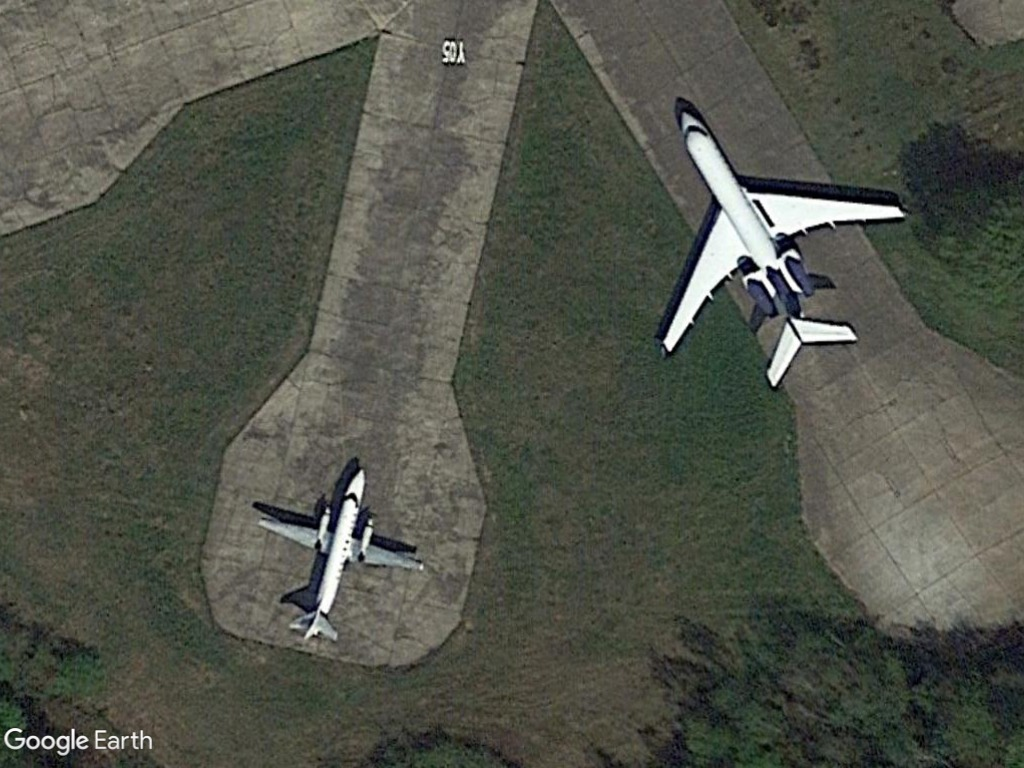chartered: (660, 104, 904, 400)
propeller: (252, 464, 427, 644)
